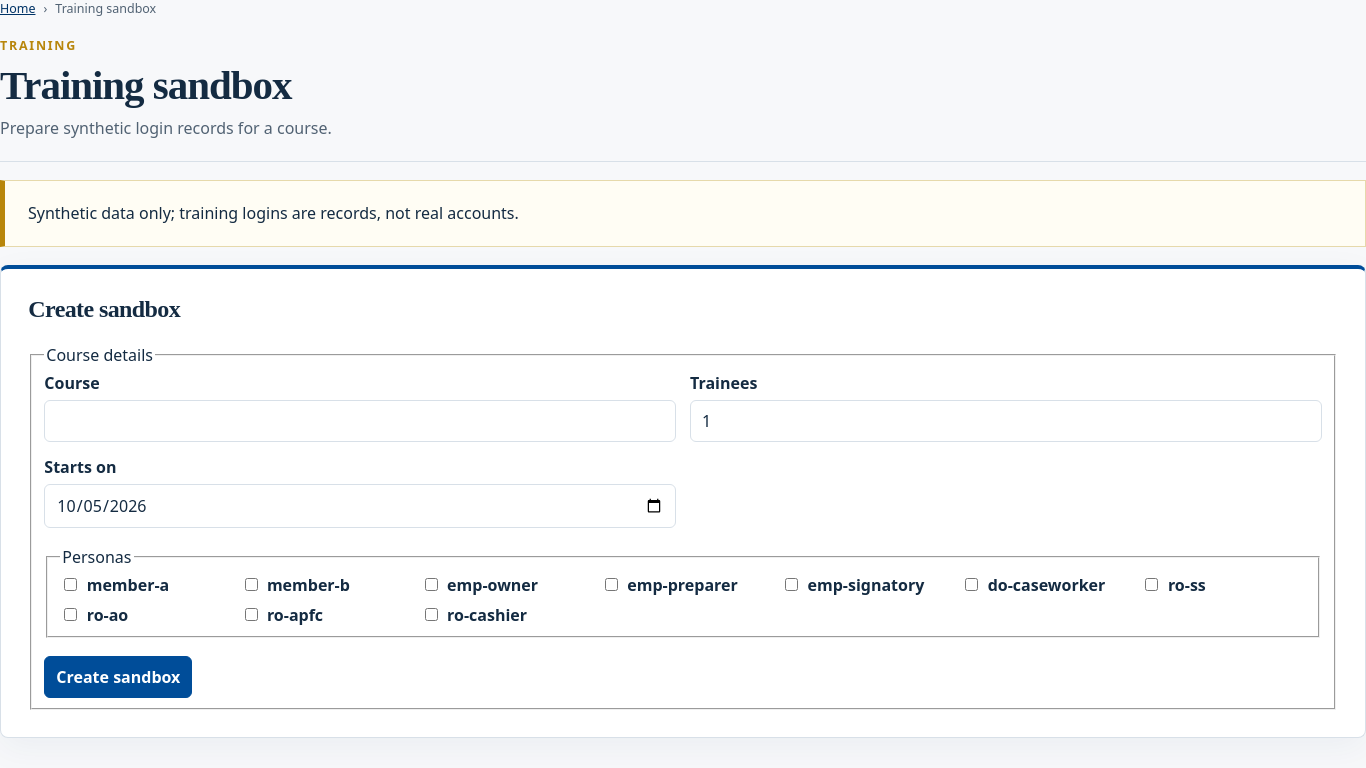
Test: sandbox posts typed course, trainees, personas and date
Type "Claims training" into the field labelled "Course". click: (360, 421)
box: [44,400,676,442]
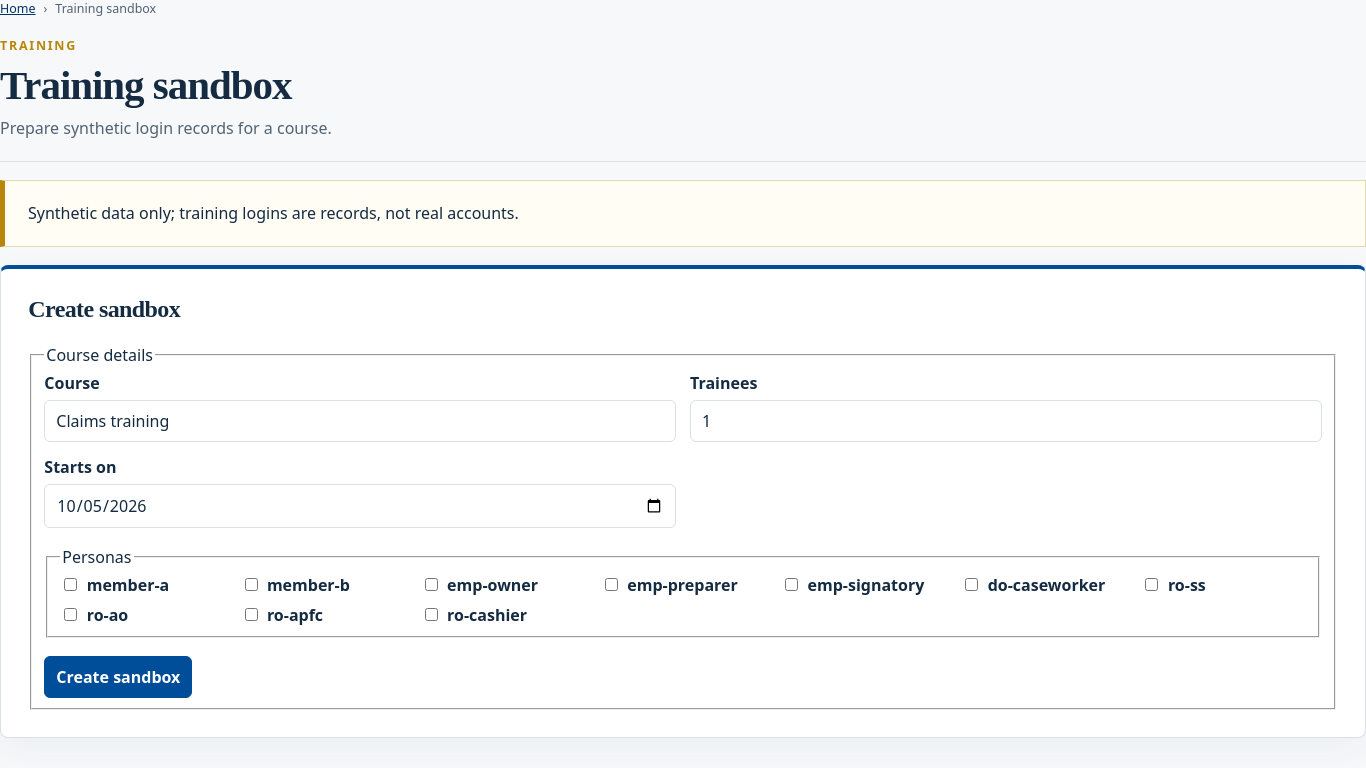
Replace the text in the number field labelled "Trainees" with "2". click: (1006, 421)
box: [690,400,1322,442]
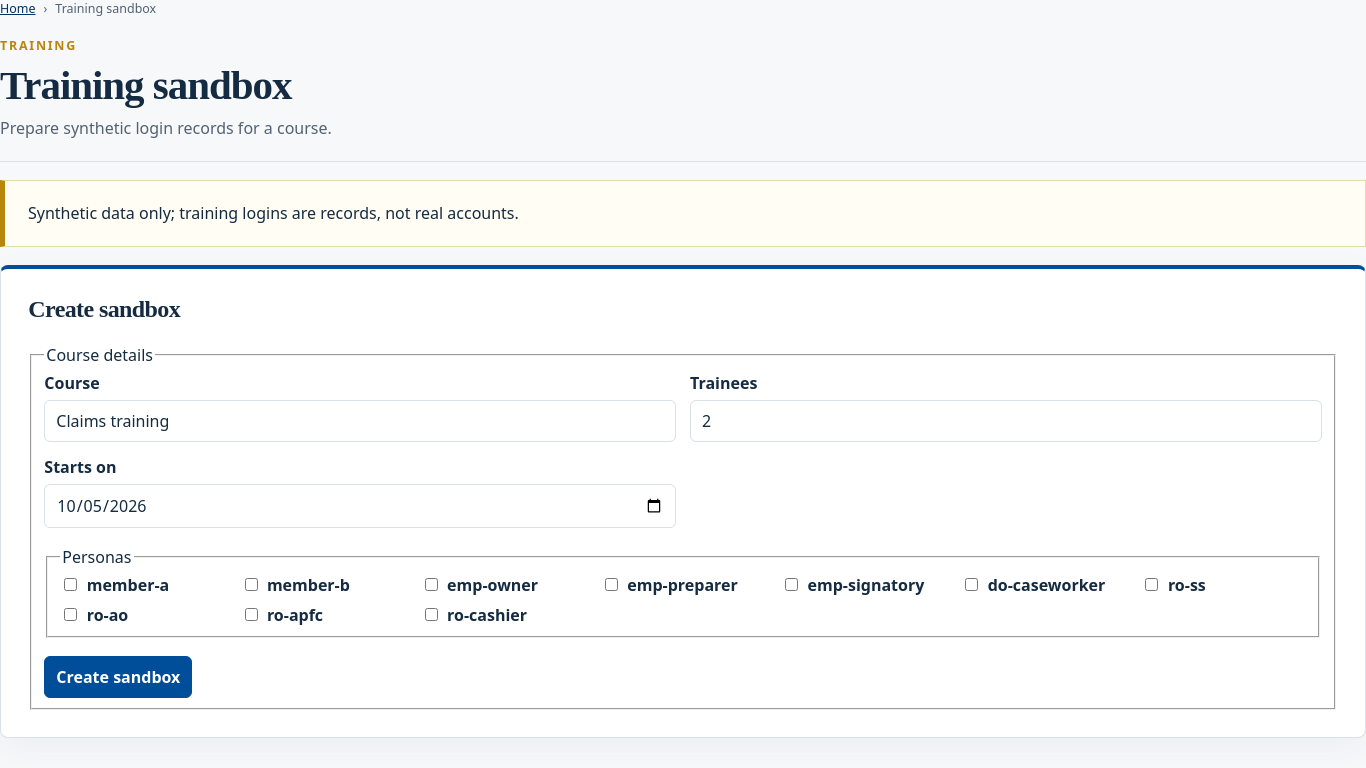
Type "2026-10-03" into the date field labelled "Starts on". click: (360, 506)
box: [44,484,676,528]
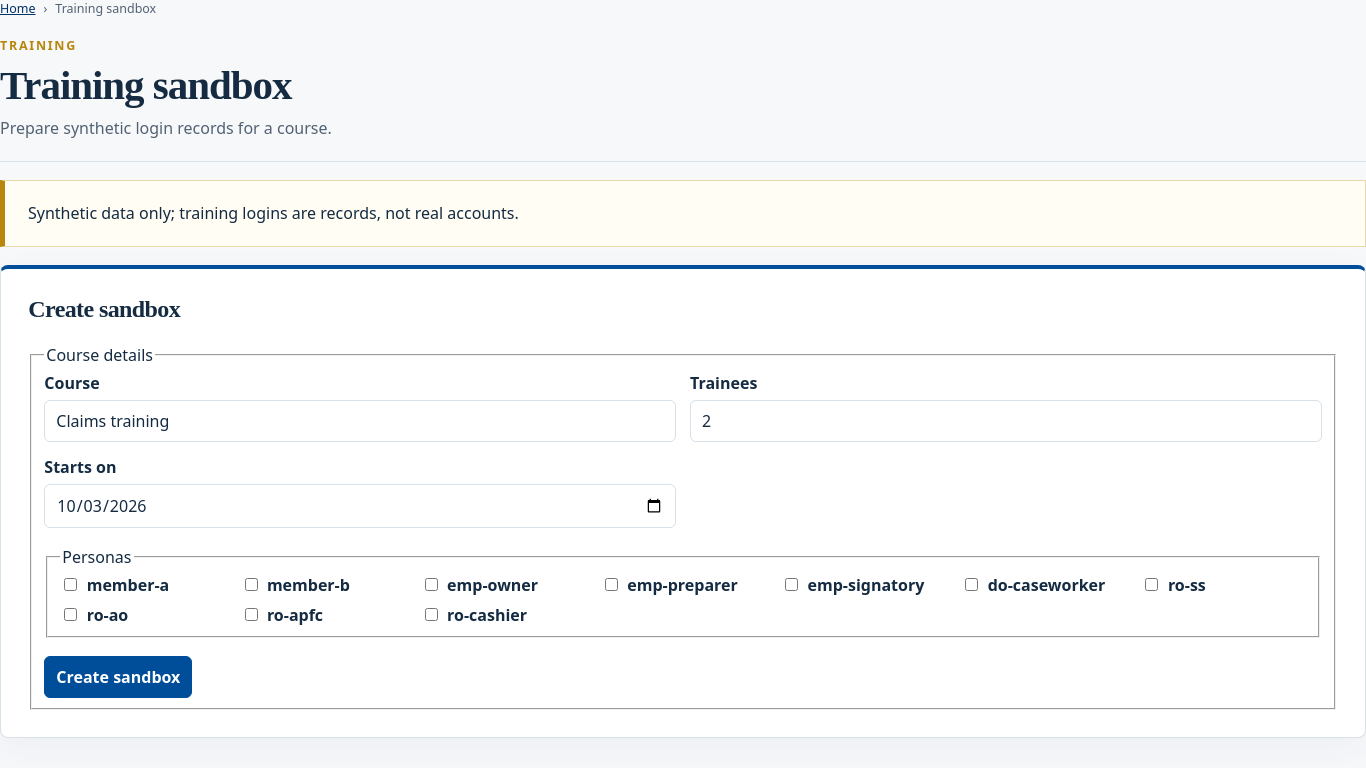
Click the checkbox labelled "member-a". click: (71, 585)
box: [64,578,77,591]
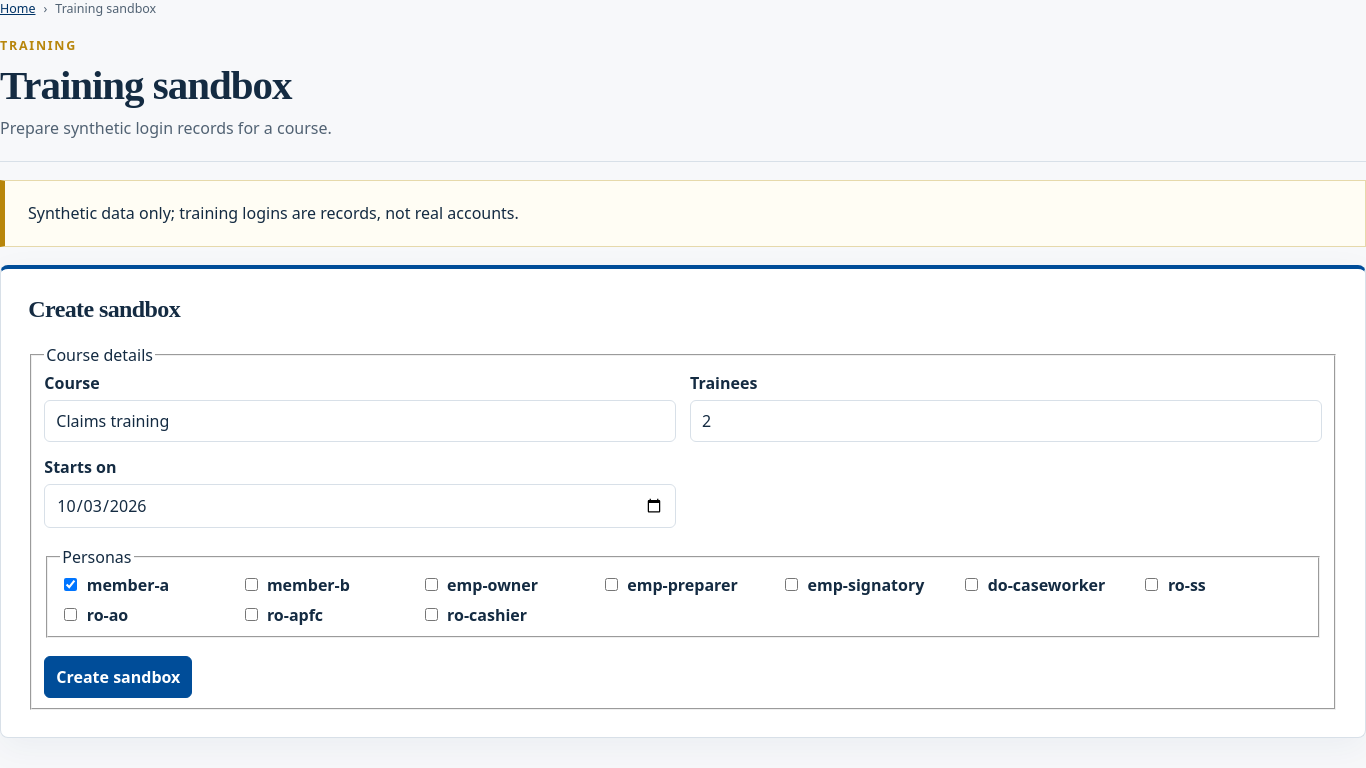
Click the checkbox labelled "ro-ao". click: (71, 615)
box: [64,608,77,621]
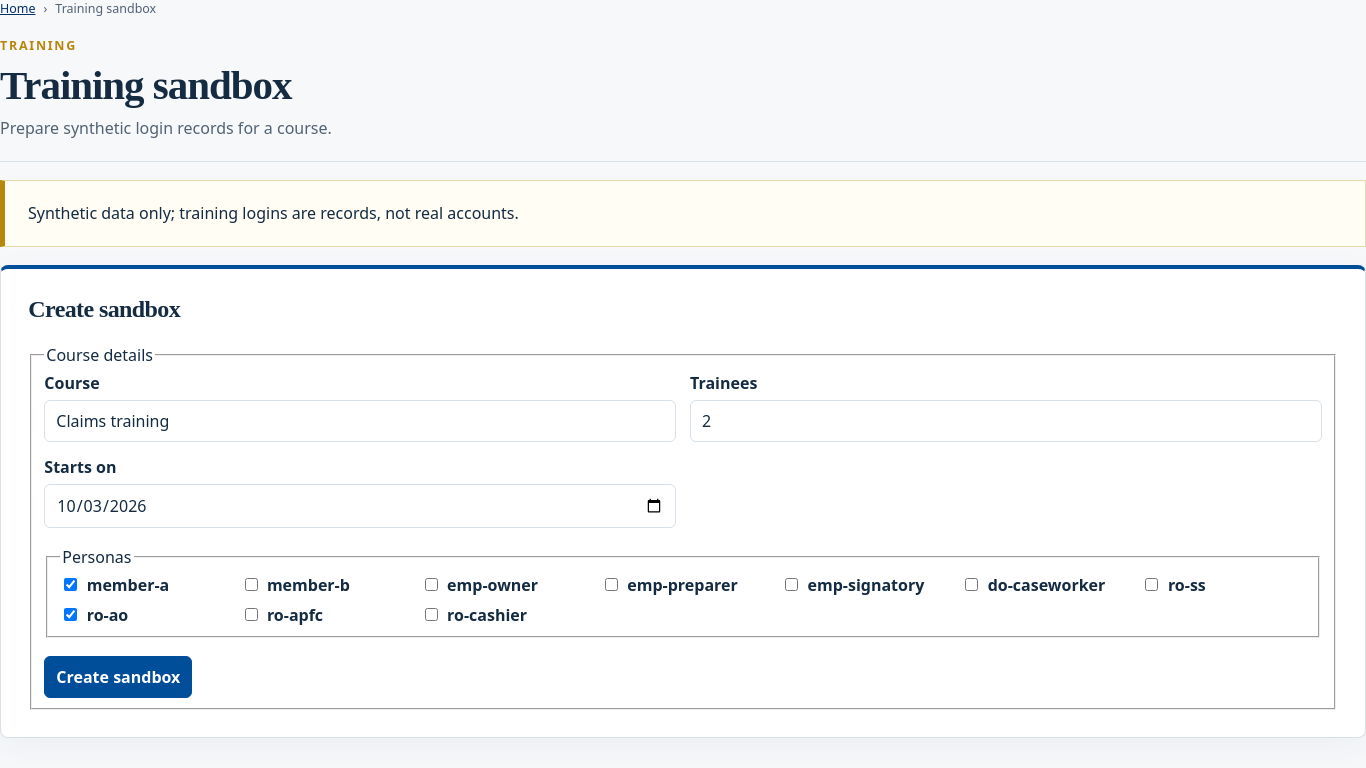
Click the button "Create sandbox". click: (118, 677)
box: [44,656,192,698]
(page scrolled)
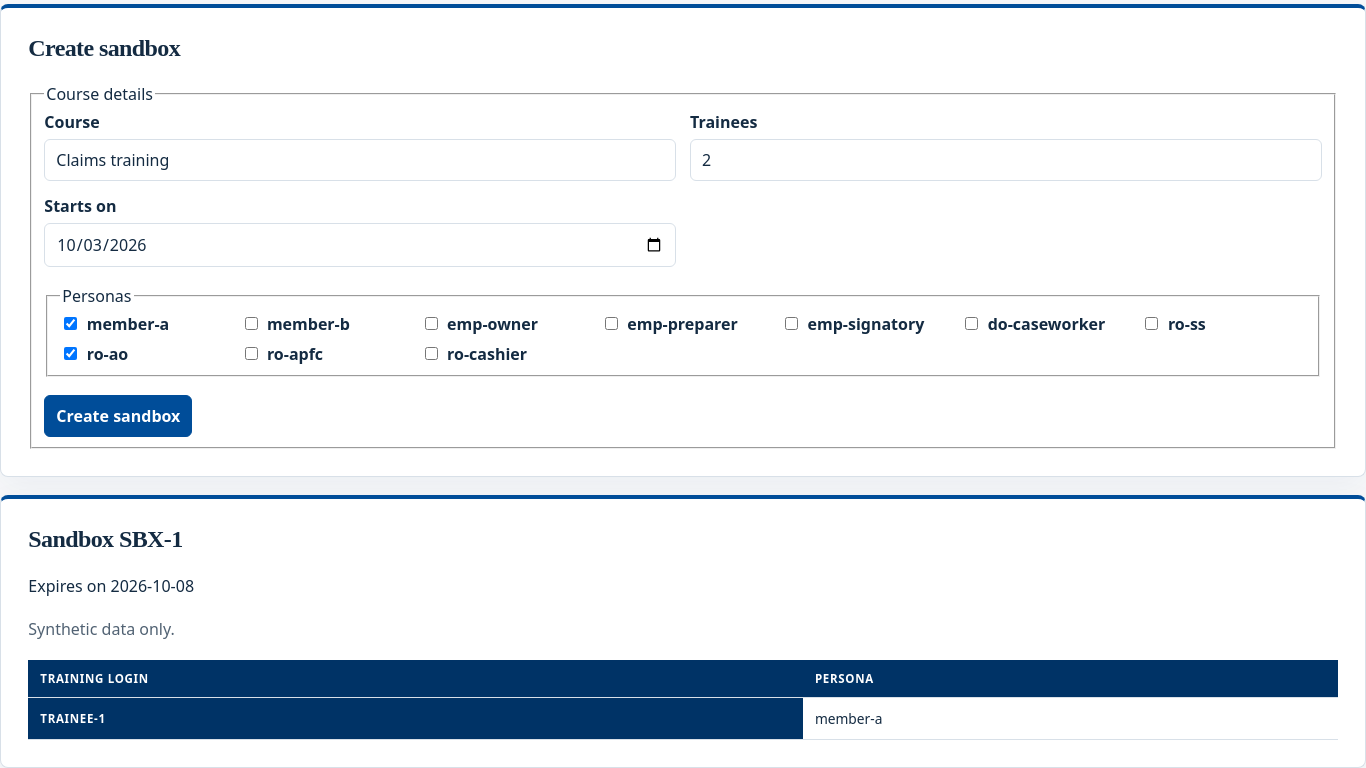
Now the heading "Sandbox SBX-1" is shown, box [28,526,183,552]
Now the column heading "trainee-1" is shown, box [28,698,803,740]
